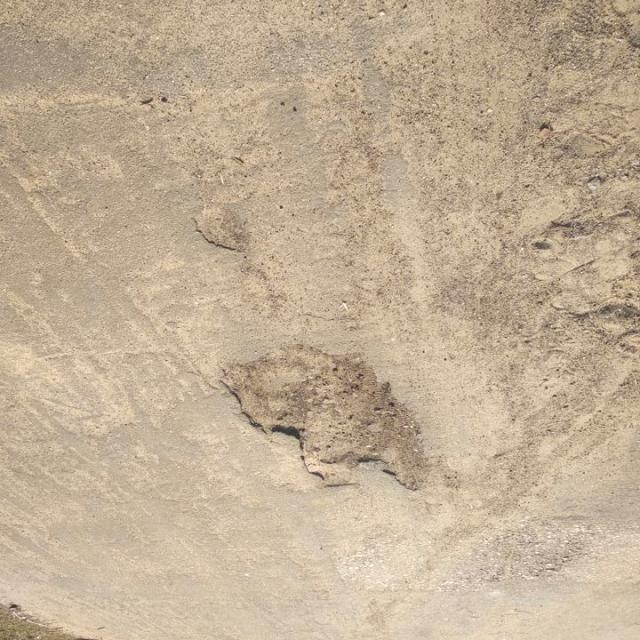pothole: (210, 339, 470, 536), (516, 0, 639, 381), (477, 518, 602, 590), (180, 198, 268, 268)
